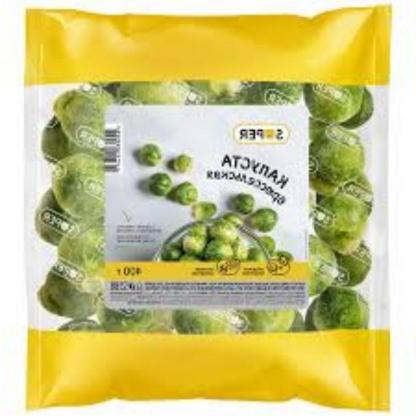brus capusta: (35, 76, 110, 318), (313, 88, 360, 333), (159, 218, 252, 276), (130, 174, 198, 213), (133, 130, 178, 167), (244, 191, 278, 230), (223, 178, 260, 212), (166, 145, 199, 177)
